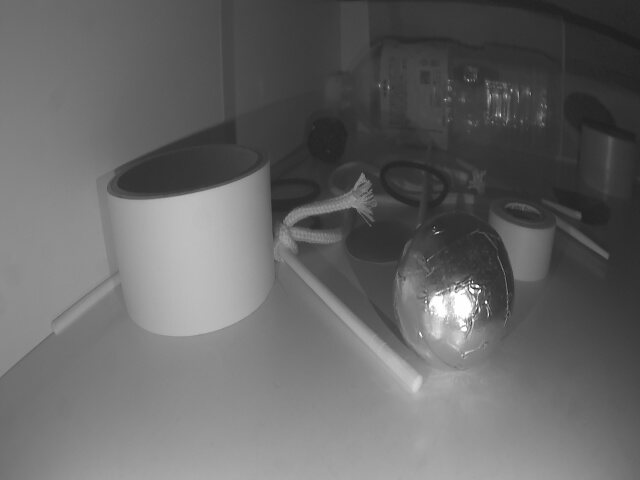Dead: (311, 118, 347, 161)
Live: (396, 212, 516, 370)
